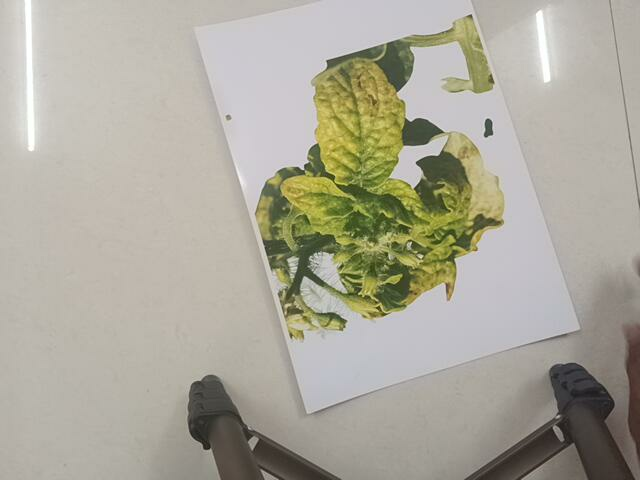Tomamto_Leaf_curl_virus: (249, 36, 526, 344)
